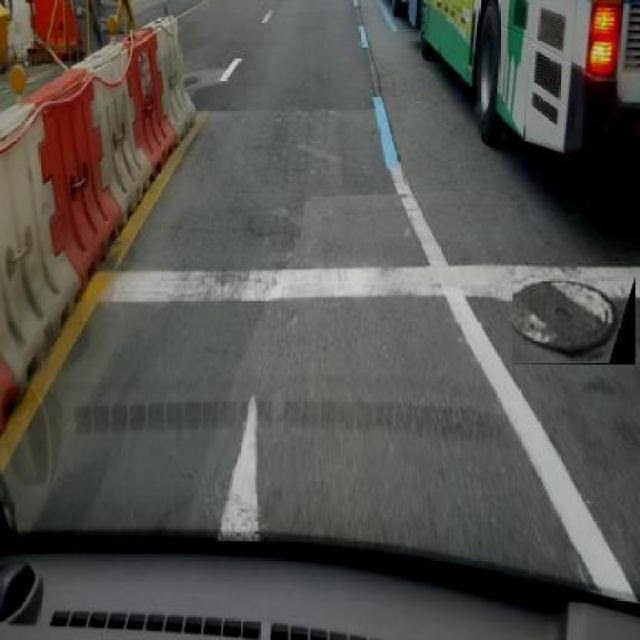Manhole: (512, 277, 636, 365)
